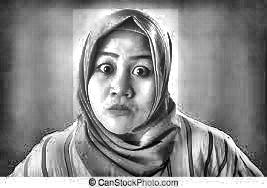Angry: (74, 10, 179, 142)
